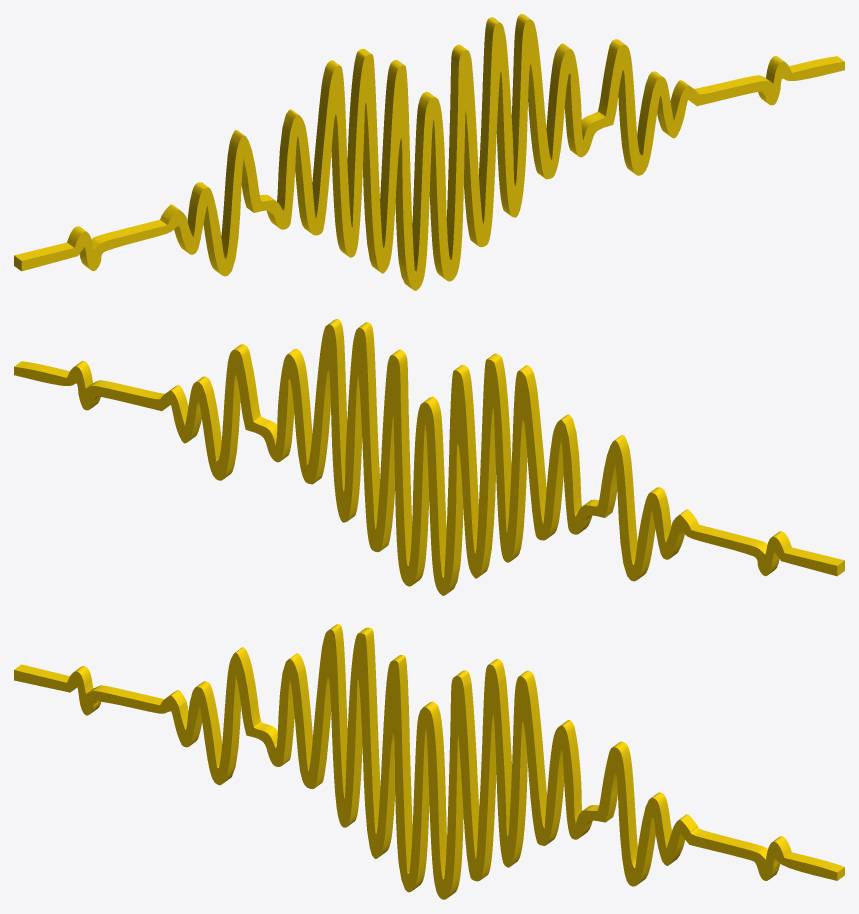
Rendered from sensor-heartbeat.glb.
3 renders of one model, top to bottom at view 1: azimuth 30°, elevation 25°; view 2: azimuth 150°, elevation 25°; view 3: azimuth 330°, elevation 25°, orthographic.
Parts seen in each view (by area): view 1: Object_2; view 2: Object_2; view 3: Object_2.
Boxes of the visible parts, x1,y1,x2,y2 form: Object_2: [14, 14, 844, 290]; Object_2: [14, 319, 844, 595]; Object_2: [14, 624, 844, 899].
Bounding box in the file's own units: 125 × 35.9 × 2.
